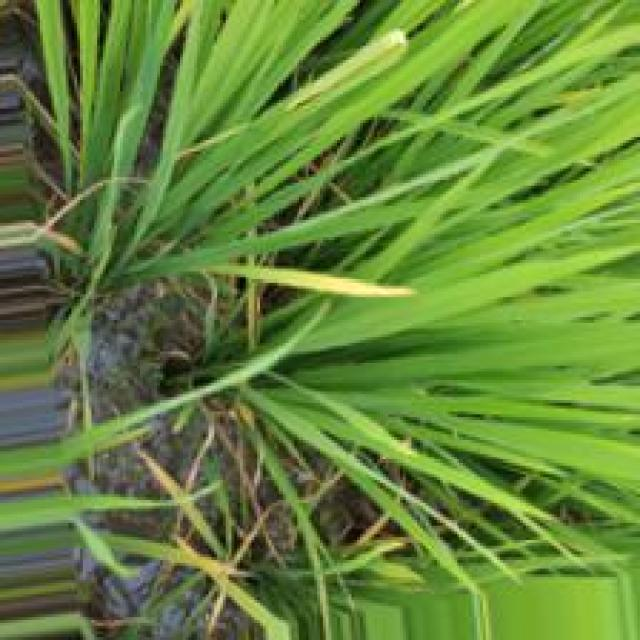HealthyLeaf: (341, 282, 469, 342), (533, 430, 635, 477), (501, 333, 613, 367)
